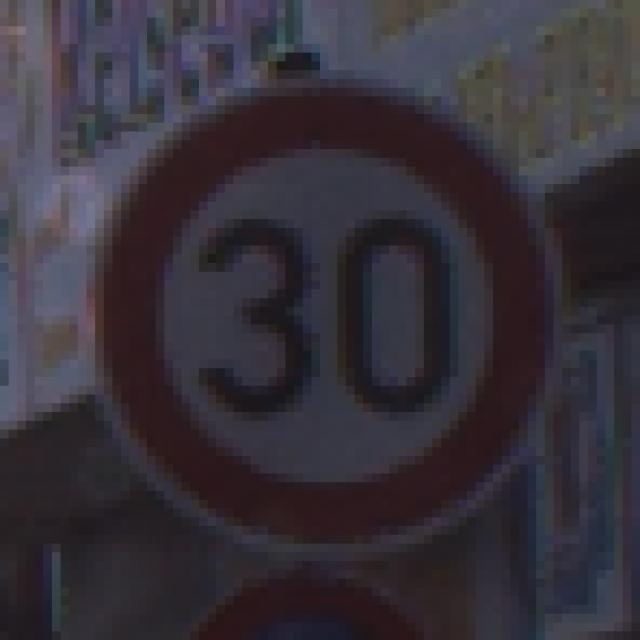Speed Limit -30-: (56, 48, 584, 583)
